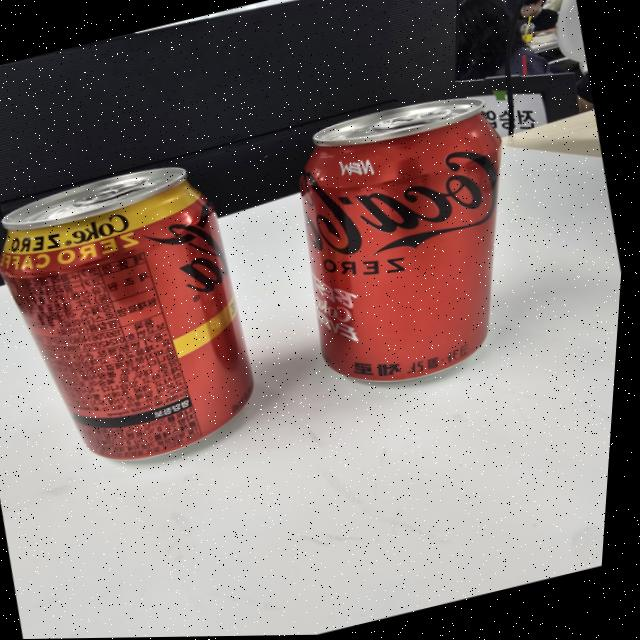can_coke_decaf: (5, 172, 263, 460)
can_coke_zero: (304, 102, 506, 381)
